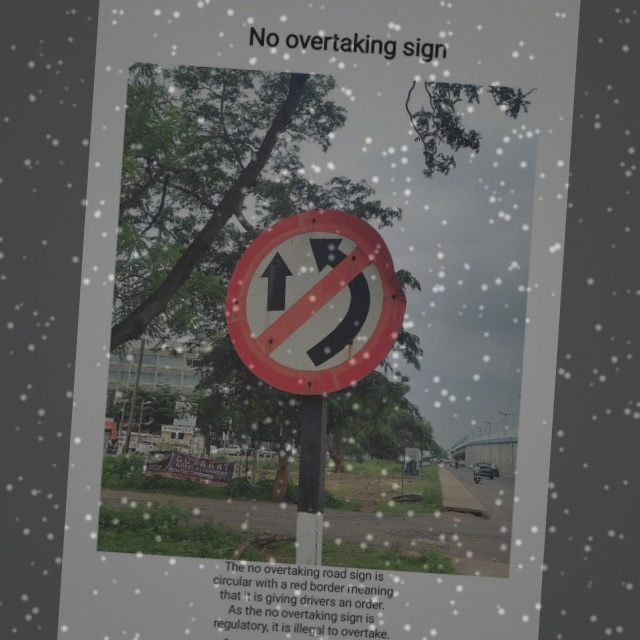Overtaking_Prohibited: (224, 201, 410, 402)
